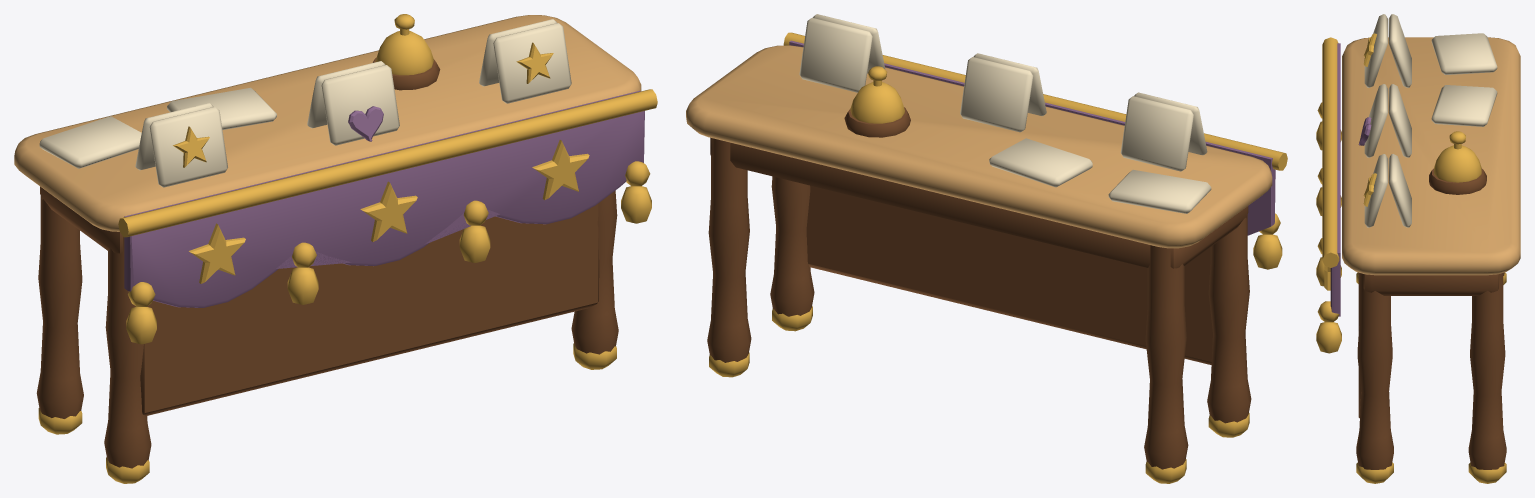
The model's file is ShopJudgeTable.fbx.
3 renders of one model, left to right at view 1: azimuth 30°, elevation 25°; view 2: azimuth 150°, elevation 25°; view 3: azimuth 270°, elevation 25°, orthographic. The views are drawn at different scales.
Visible parts, largest first — view 1: ShopJudgeTable; view 2: ShopJudgeTable; view 3: ShopJudgeTable.
Part boxes in pixels (x1=…): ShopJudgeTable: x1=14, y1=14, x2=657, y2=483; ShopJudgeTable: x1=686, y1=14, x2=1287, y2=483; ShopJudgeTable: x1=1316, y1=14, x2=1520, y2=483.
Bounding box in the file's own units: 1.6 × 0.972 × 0.618.
